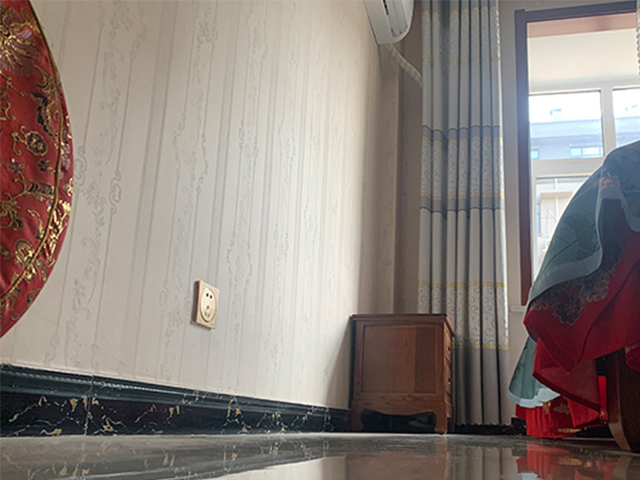bed: (505, 139, 640, 453)
cabinet: (350, 313, 457, 435)
curtain: (417, 1, 512, 428)
